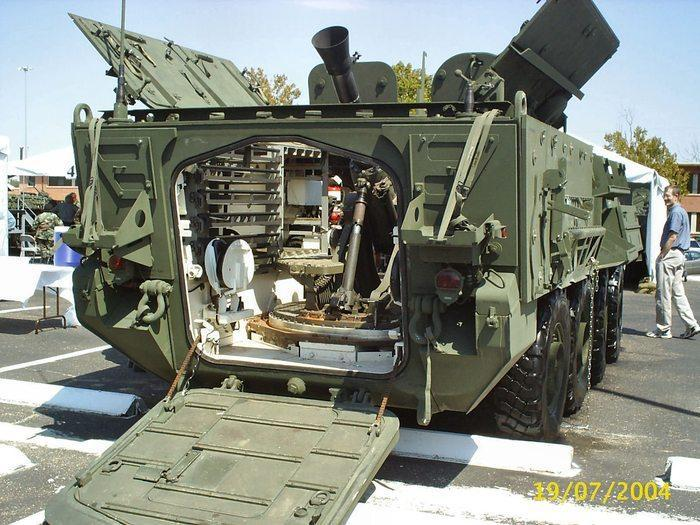MIL_IFV: (57, 8, 651, 525)
